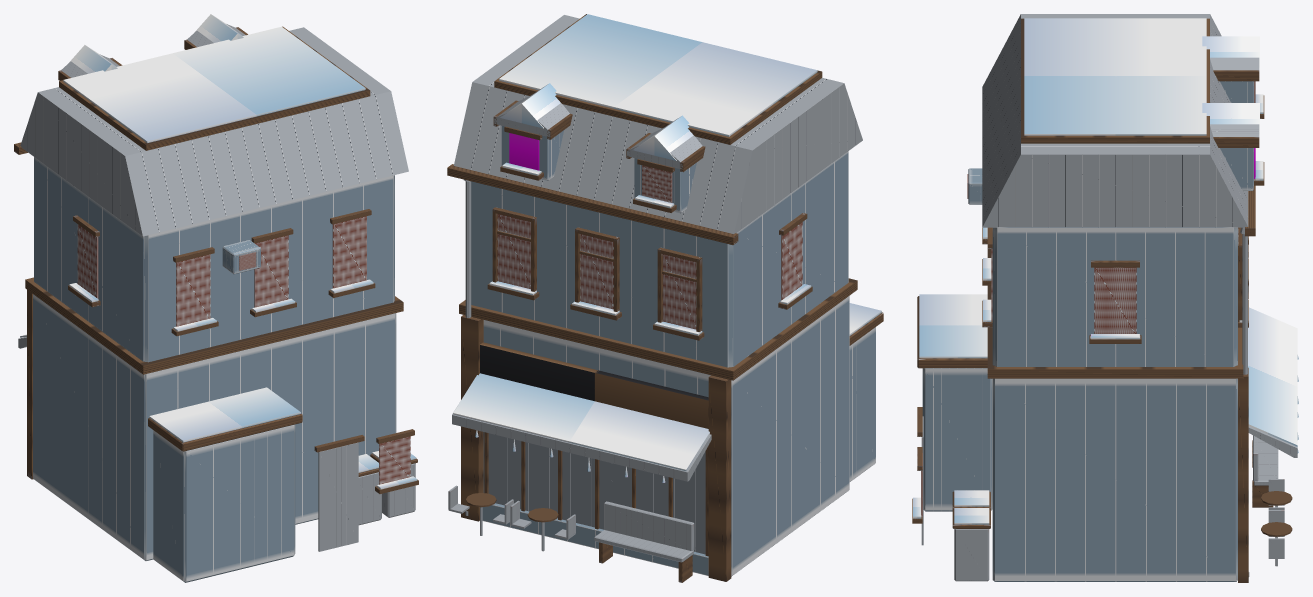
File: ck_shop_cafe.fbx
The picture shows the model from 3 angles, left to right: view 1: azimuth 30°, elevation 25°; view 2: azimuth 150°, elevation 25°; view 3: azimuth 270°, elevation 25°; orthographic projection. The views are drawn at different scales.
Parts seen in each view (by area): view 1: ck_shop_cafe; view 2: ck_shop_cafe; view 3: ck_shop_cafe.
Part boxes in pixels (<box>): ck_shop_cafe: <box>14,14,418,582</box>; ck_shop_cafe: <box>447,14,883,582</box>; ck_shop_cafe: <box>912,14,1298,582</box>.
Size of the model in its own units: 1725 by 2500 by 1961.
